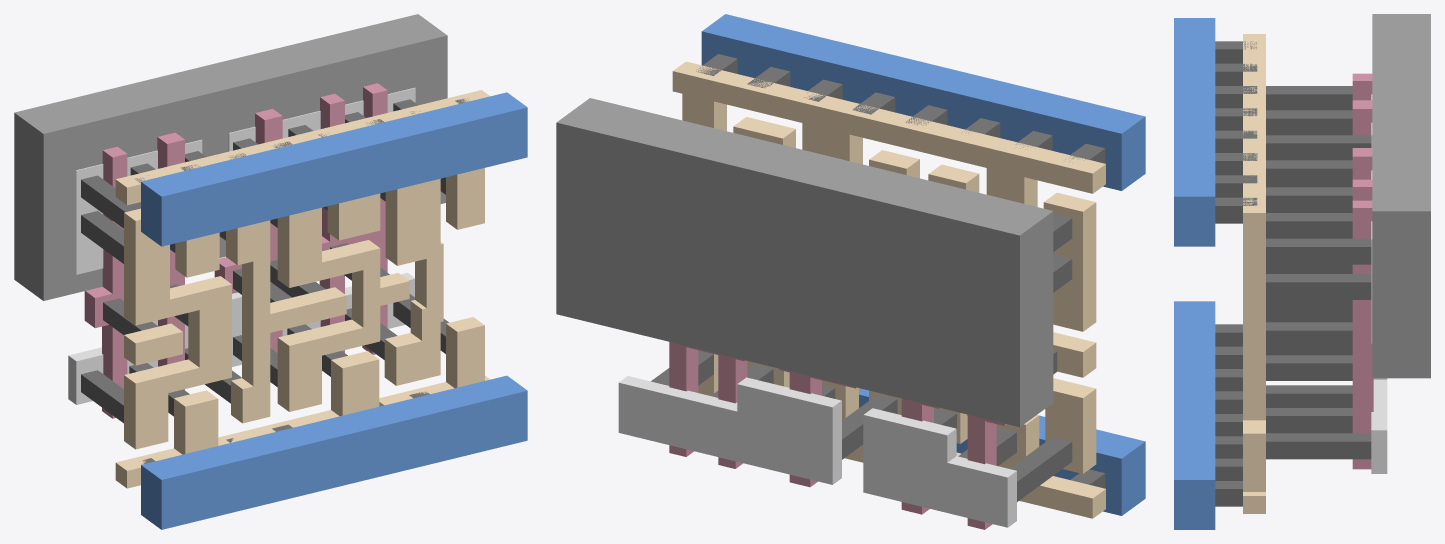
The model's file is sky130_fd_sc_hd__clkdlybuf4s18_2.gds.gltf.
The picture shows the model from 3 angles, left to right: view 1: azimuth 30°, elevation 25°; view 2: azimuth 150°, elevation 25°; view 3: azimuth 270°, elevation 25°; orthographic projection. The views are drawn at different scales.
Visible parts, largest first — view 1: sky130_fd_sc_hd__clkdlybuf4s18_2_li1, sky130_fd_sc_hd__clkdlybuf4s18_2_met1, sky130_fd_sc_hd__clkdlybuf4s18_2_nwell, sky130_fd_sc_hd__clkdlybuf4s18_2_licon, sky130_fd_sc_hd__clkdlybuf4s18_2_poly, sky130_fd_sc_hd__clkdlybuf4s18_2_diff, sky130_fd_sc_hd__clkdlybuf4s18_2_mcon; view 2: sky130_fd_sc_hd__clkdlybuf4s18_2_nwell, sky130_fd_sc_hd__clkdlybuf4s18_2_li1, sky130_fd_sc_hd__clkdlybuf4s18_2_diff, sky130_fd_sc_hd__clkdlybuf4s18_2_met1, sky130_fd_sc_hd__clkdlybuf4s18_2_licon, sky130_fd_sc_hd__clkdlybuf4s18_2_poly, sky130_fd_sc_hd__clkdlybuf4s18_2_mcon; view 3: sky130_fd_sc_hd__clkdlybuf4s18_2_licon, sky130_fd_sc_hd__clkdlybuf4s18_2_nwell, sky130_fd_sc_hd__clkdlybuf4s18_2_met1, sky130_fd_sc_hd__clkdlybuf4s18_2_mcon, sky130_fd_sc_hd__clkdlybuf4s18_2_li1, sky130_fd_sc_hd__clkdlybuf4s18_2_poly, sky130_fd_sc_hd__clkdlybuf4s18_2_diff.
Part boxes in pixels (x1,y1,x2,y2): sky130_fd_sc_hd__clkdlybuf4s18_2_li1: (115, 90, 489, 488); sky130_fd_sc_hd__clkdlybuf4s18_2_met1: (141, 92, 527, 529); sky130_fd_sc_hd__clkdlybuf4s18_2_nwell: (14, 14, 447, 300); sky130_fd_sc_hd__clkdlybuf4s18_2_licon: (81, 99, 448, 423); sky130_fd_sc_hd__clkdlybuf4s18_2_poly: (84, 83, 387, 418); sky130_fd_sc_hd__clkdlybuf4s18_2_diff: (68, 87, 415, 404); sky130_fd_sc_hd__clkdlybuf4s18_2_mcon: (135, 98, 469, 463); sky130_fd_sc_hd__clkdlybuf4s18_2_nwell: (556, 98, 1053, 427); sky130_fd_sc_hd__clkdlybuf4s18_2_li1: (672, 61, 1105, 518); sky130_fd_sc_hd__clkdlybuf4s18_2_diff: (618, 376, 1016, 527); sky130_fd_sc_hd__clkdlybuf4s18_2_met1: (701, 14, 1145, 515); sky130_fd_sc_hd__clkdlybuf4s18_2_licon: (651, 213, 1072, 501); sky130_fd_sc_hd__clkdlybuf4s18_2_poly: (669, 342, 1006, 529); sky130_fd_sc_hd__clkdlybuf4s18_2_mcon: (696, 54, 1105, 488); sky130_fd_sc_hd__clkdlybuf4s18_2_licon: (1266, 86, 1371, 459); sky130_fd_sc_hd__clkdlybuf4s18_2_nwell: (1372, 14, 1430, 378); sky130_fd_sc_hd__clkdlybuf4s18_2_met1: (1174, 18, 1215, 529); sky130_fd_sc_hd__clkdlybuf4s18_2_mcon: (1215, 41, 1257, 506); sky130_fd_sc_hd__clkdlybuf4s18_2_li1: (1243, 34, 1265, 513); sky130_fd_sc_hd__clkdlybuf4s18_2_poly: (1352, 73, 1373, 469); sky130_fd_sc_hd__clkdlybuf4s18_2_diff: (1371, 94, 1387, 473).
Bounding box in the file's own units: 4.06 × 3.2 × 2.24.
